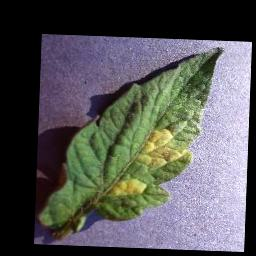Leaf_Mold: (132, 123, 197, 175), (104, 174, 154, 197)
